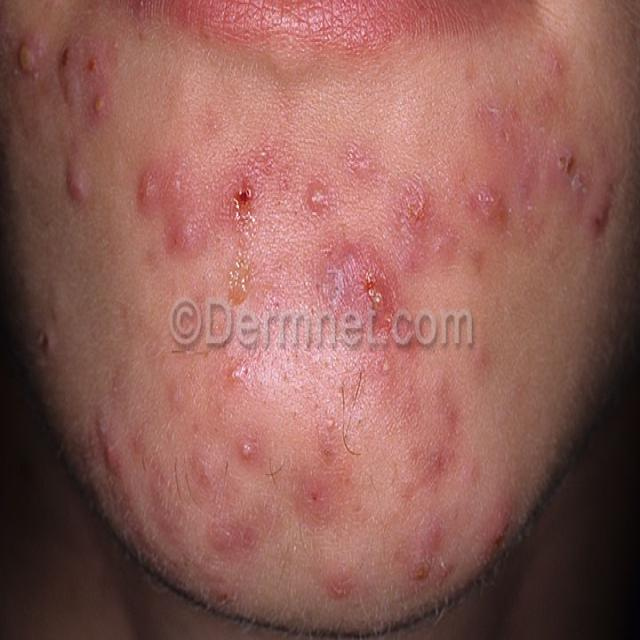Acne: (317, 242, 396, 310), (392, 180, 436, 272), (466, 180, 511, 240), (549, 142, 592, 203), (228, 168, 258, 239), (341, 139, 384, 186), (209, 521, 260, 557), (166, 212, 204, 256), (56, 41, 80, 104), (14, 34, 45, 82), (63, 151, 87, 208), (480, 512, 510, 554), (221, 354, 252, 393), (233, 431, 264, 469), (304, 177, 331, 220), (137, 166, 159, 213), (408, 556, 435, 593), (87, 86, 113, 124), (300, 476, 326, 514), (85, 38, 108, 80), (326, 569, 355, 602), (430, 228, 455, 266), (588, 200, 611, 239), (374, 350, 396, 384), (100, 438, 121, 471)
